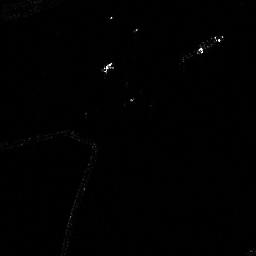ship: (195, 33, 227, 55)
